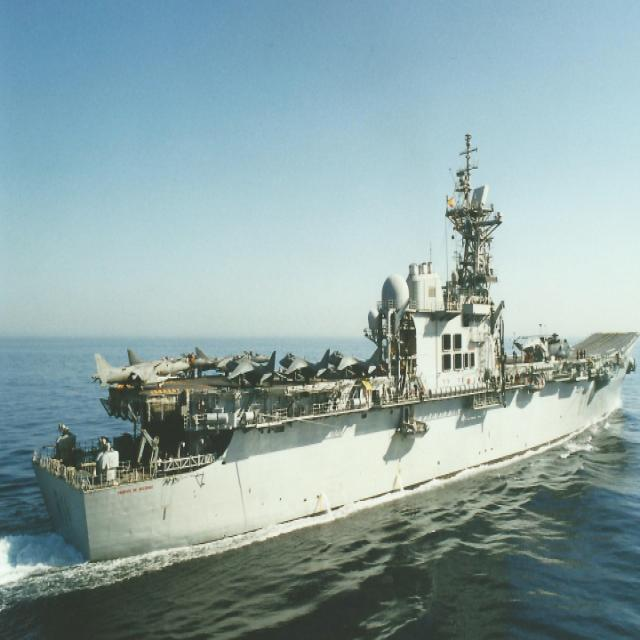Portanaves: (27, 114, 640, 582)
